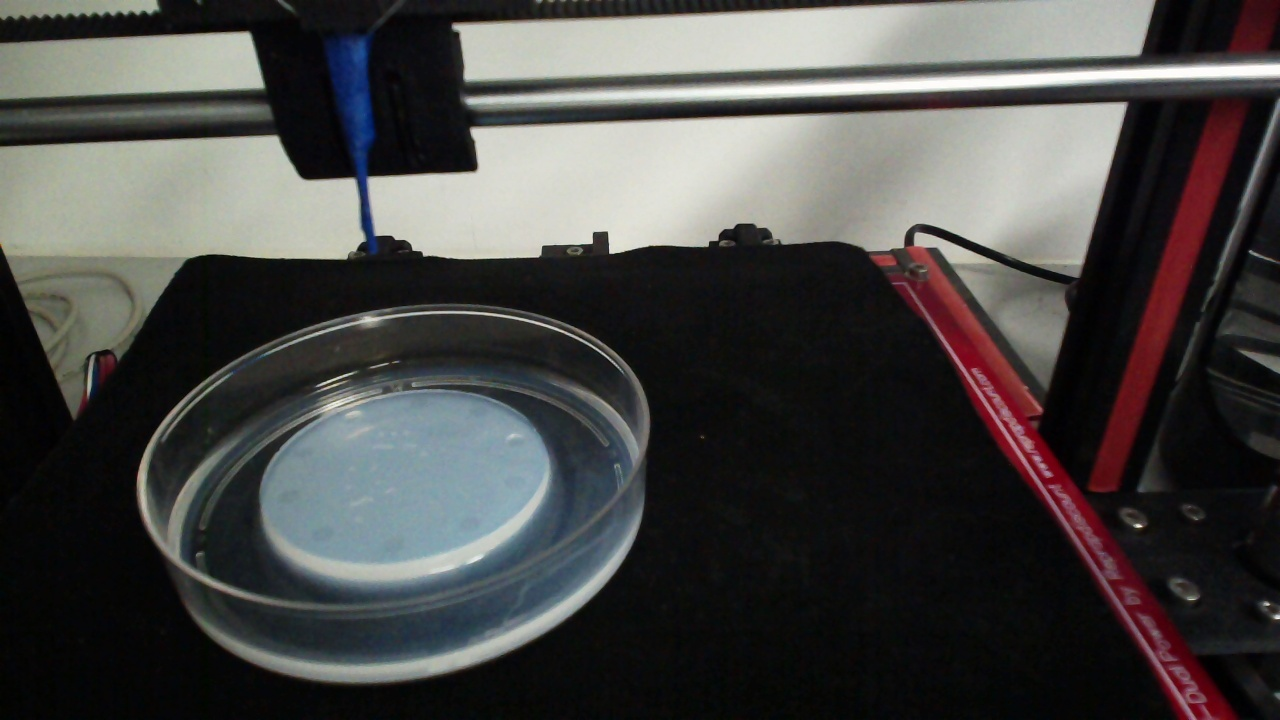groove: (289, 440, 317, 459), (377, 535, 404, 554), (459, 514, 482, 534), (504, 472, 528, 491), (274, 487, 299, 505), (309, 524, 334, 542), (409, 392, 433, 410), (504, 432, 526, 450), (469, 403, 491, 420), (343, 408, 361, 426)
needle: (329, 41, 379, 253)
